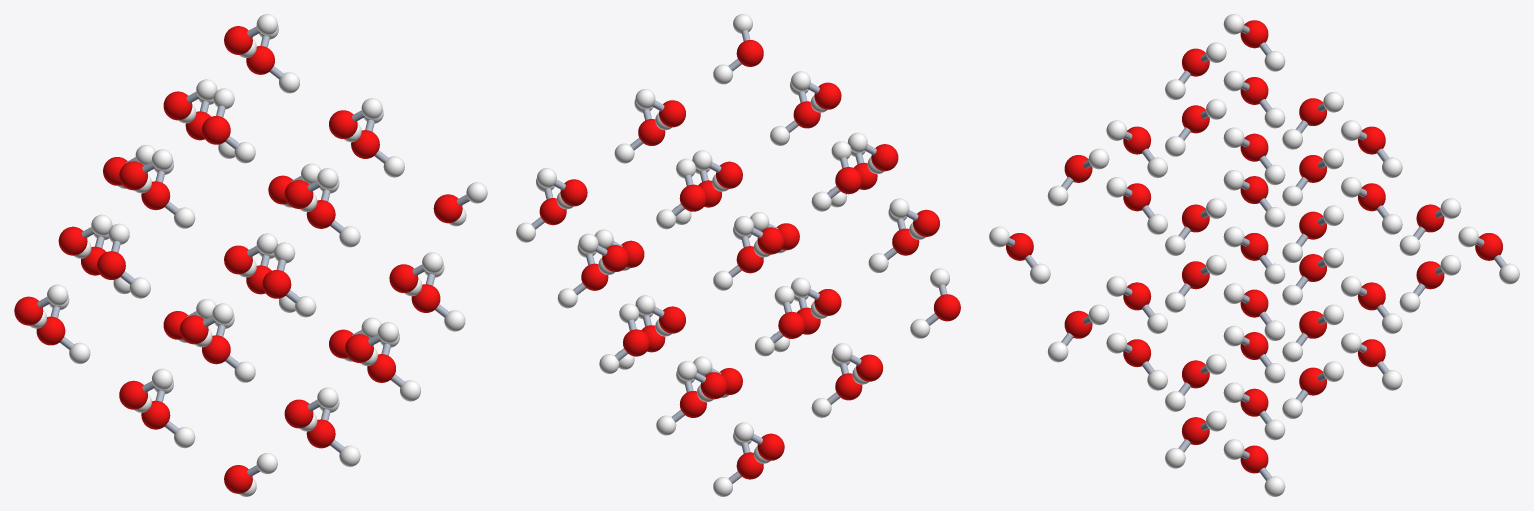
File: ice.glb
The picture shows the model from 3 angles, left to right: view 1: azimuth 30°, elevation 25°; view 2: azimuth 150°, elevation 25°; view 3: azimuth 270°, elevation 25°; orthographic projection. The views are drawn at different scales.
Visible parts, largest first — view 1: O (×28); view 2: O (×28); view 3: O (×32).
Boxes of the visible parts, left/top/right/bottom form: O (×28): left=14, top=26, right=462, bottom=493; O (×28): left=539, top=40, right=960, bottom=479; O (×32): left=1006, top=20, right=1444, bottom=473.
Size of the model in its own units: 0.2131 by 0.22 by 0.22.
